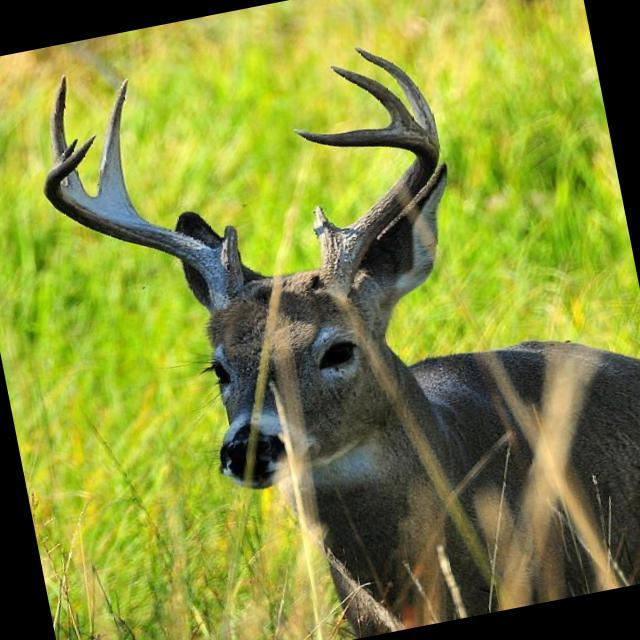L-F: (292, 127, 441, 302)
L-G1: (310, 204, 342, 249)
L-G2: (352, 42, 440, 147)
L-G3: (330, 65, 425, 129)
R-F: (42, 132, 246, 310)
R-G1: (215, 224, 242, 264)
R-G2: (95, 77, 147, 222)
